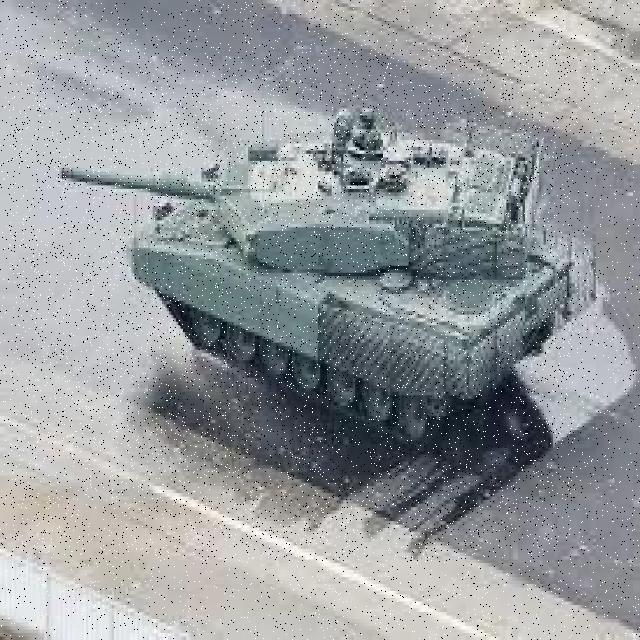MIL_MBT: (10, 41, 573, 561)
